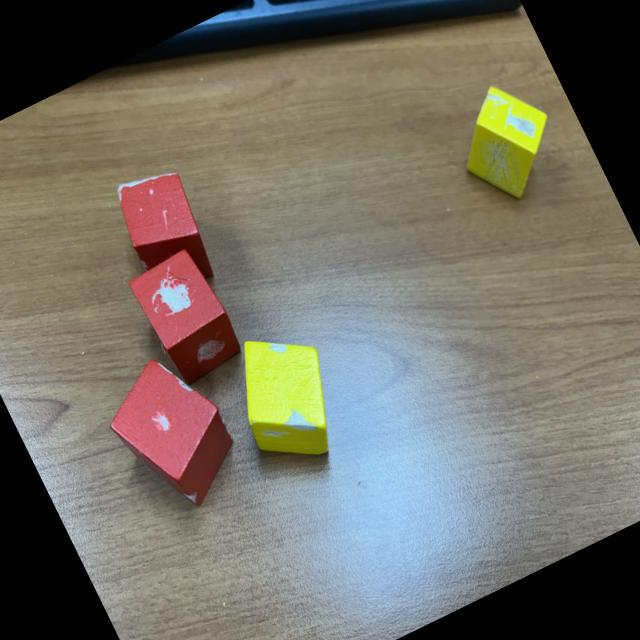broken: (90, 340, 254, 526), (213, 314, 360, 480), (436, 66, 576, 215), (124, 243, 248, 390), (104, 158, 226, 302)
